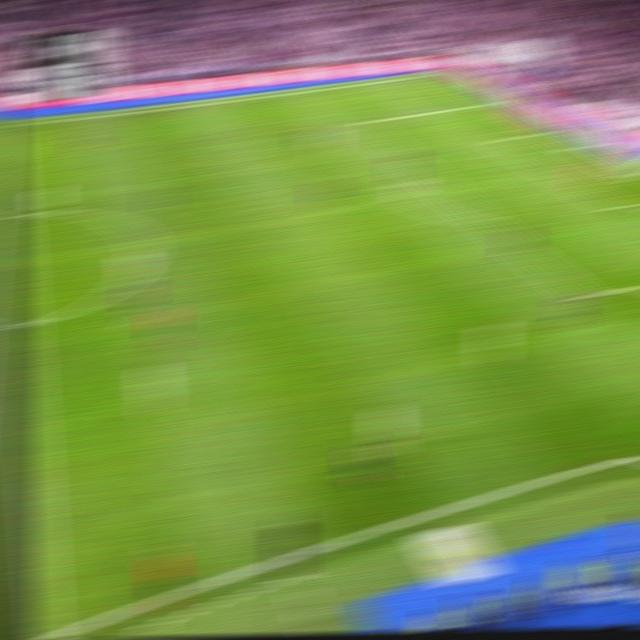bigarea_bottom_inner: (571, 286, 598, 307)
bigarea_top_inner: (349, 117, 371, 128)
bottom_arc_area_intersection: (473, 213, 497, 227)
corner: (424, 71, 446, 77)
halfcircle_bottom: (9, 314, 37, 336)
halfcircle_top: (2, 209, 26, 223)
midline_top_intersection: (0, 119, 16, 129)
smallarea_bottom_inner: (604, 201, 629, 214)
smallarea_top_inner: (491, 136, 511, 143)
top_arc_area_intersection: (399, 157, 419, 166)
